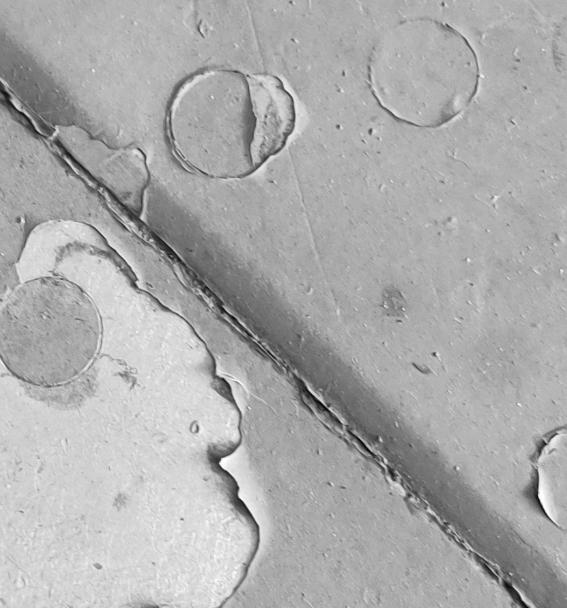paint-off: (1, 1, 567, 608)
